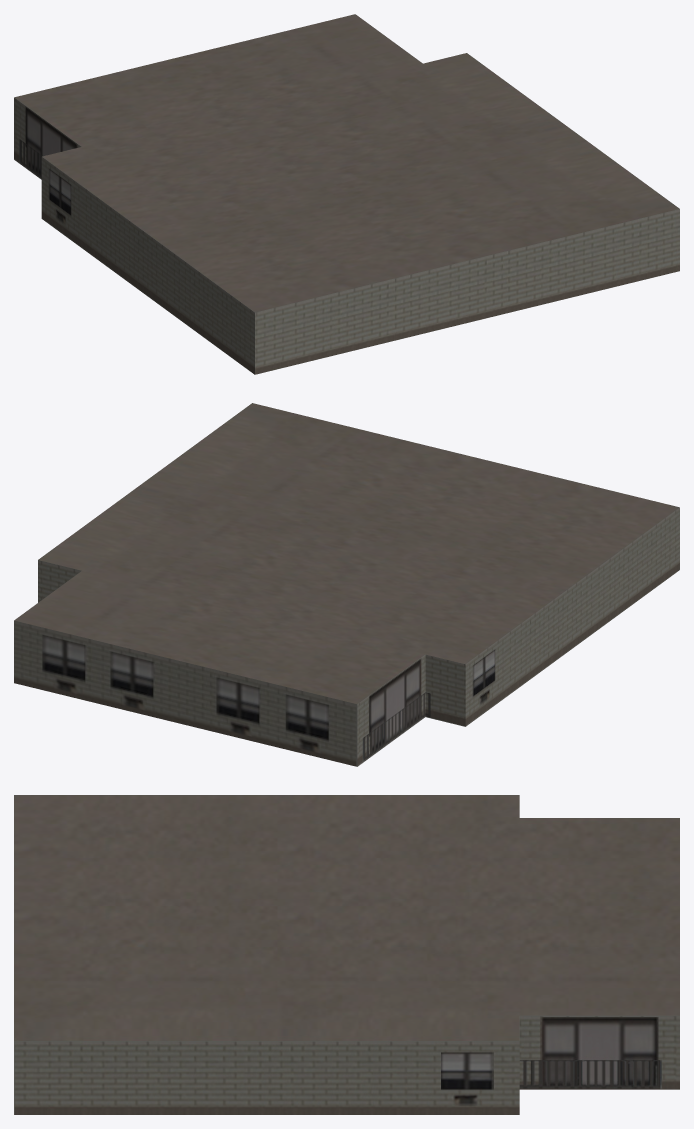
3 renders of one model, top to bottom at view 1: azimuth 30°, elevation 25°; view 2: azimuth 150°, elevation 25°; view 3: azimuth 270°, elevation 25°, orthographic. The views are drawn at different scales.
Visible parts, largest first — view 1: 立方体.003; view 2: 立方体.003; view 3: 立方体.003.
Part boxes in pixels (x1,y1,x2,y2): 立方体.003: (14, 14, 679, 374); 立方体.003: (14, 403, 679, 766); 立方体.003: (14, 795, 679, 1114).
Size of the model in its own units: 30.02 by 4.2 by 34.34.
Materials: 1 (1 with a texture image).
